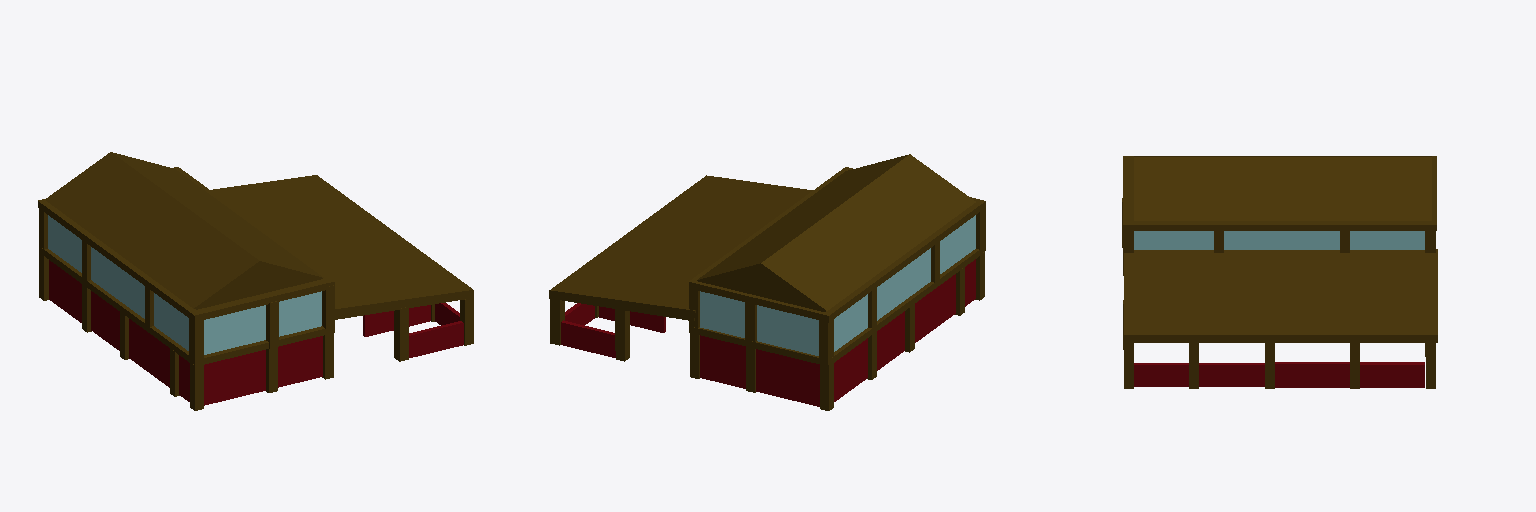
File: stable.obj
The picture shows the model from 3 angles: view 1: azimuth 30°, elevation 25°; view 2: azimuth 150°, elevation 25°; view 3: azimuth 270°, elevation 25°; orthographic projection.
Parts seen in each view (by area): view 1: Cube.006_Cube.007, Cube.005_Cube.006, Cube.003_Cube.004, Cube.002_Cube.003, Cube.004_Cube.005, Cube_Cube.001, Cube.001_Cube.002; view 2: Cube.006_Cube.007, Cube.005_Cube.006, Cube.002_Cube.003, Cube.003_Cube.004, Cube.004_Cube.005, Cube_Cube.001, Cube.001_Cube.002; view 3: Cube.005_Cube.006, Cube.006_Cube.007, Cube.001_Cube.002, Cube.003_Cube.004, Cube.004_Cube.005, Cube_Cube.001.
Part boxes in pixels (left/top/right/bottom): Cube.006_Cube.007: left=45, top=152, right=323, bottom=309; Cube.005_Cube.006: left=211, top=175, right=473, bottom=353; Cube.003_Cube.004: left=38, top=167, right=334, bottom=366; Cube.002_Cube.003: left=49, top=260, right=322, bottom=405; Cube.004_Cube.005: left=48, top=215, right=321, bottom=354; Cube_Cube.001: left=39, top=253, right=473, bottom=410; Cube.001_Cube.002: left=363, top=303, right=463, bottom=357; Cube.006_Cube.007: left=697, top=154, right=975, bottom=311; Cube.005_Cube.006: left=549, top=175, right=812, bottom=352; Cube.002_Cube.003: left=700, top=259, right=975, bottom=406; Cube.003_Cube.004: left=689, top=167, right=985, bottom=366; Cube.004_Cube.005: left=700, top=215, right=975, bottom=355; Cube_Cube.001: left=550, top=252, right=984, bottom=410; Cube.001_Cube.002: left=561, top=303, right=665, bottom=357; Cube.005_Cube.006: left=1123, top=249, right=1437, bottom=349; Cube.006_Cube.007: left=1134, top=156, right=1431, bottom=220; Cube.001_Cube.002: left=1134, top=362, right=1424, bottom=387; Cube.003_Cube.004: left=1122, top=156, right=1436, bottom=275; Cube.004_Cube.005: left=1134, top=231, right=1424, bottom=249; Cube_Cube.001: left=1124, top=343, right=1435, bottom=388.
Bounding box in the file's own units: 12.84 × 5.74 × 12.55.